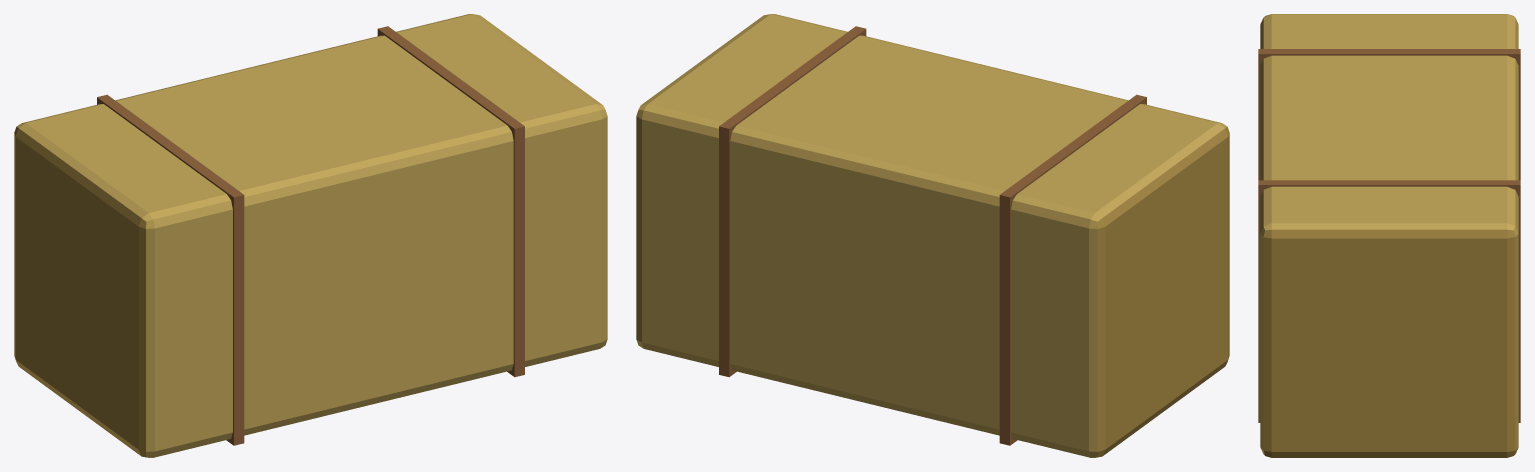
File: hay_bale.glb
3 views of the same model, side by side, from view 1: azimuth 30°, elevation 25°; view 2: azimuth 150°, elevation 25°; view 3: azimuth 270°, elevation 25° (orthographic). The views are drawn at different scales.
Visible parts, largest first — view 1: HayBale_Hay, HayBale_Twine; view 2: HayBale_Hay, HayBale_Twine; view 3: HayBale_Hay, HayBale_Twine.
Boxes of the visible parts, left/top/right/bottom form: HayBale_Hay: left=14, top=14, right=607, bottom=457; HayBale_Twine: left=97, top=26, right=524, bottom=445; HayBale_Hay: left=636, top=14, right=1229, bottom=457; HayBale_Twine: left=719, top=26, right=1146, bottom=445; HayBale_Hay: left=1260, top=14, right=1518, bottom=457; HayBale_Twine: left=1258, top=49, right=1520, bottom=422.
Size of the model in its own units: 1.12 by 0.568 by 0.568.
